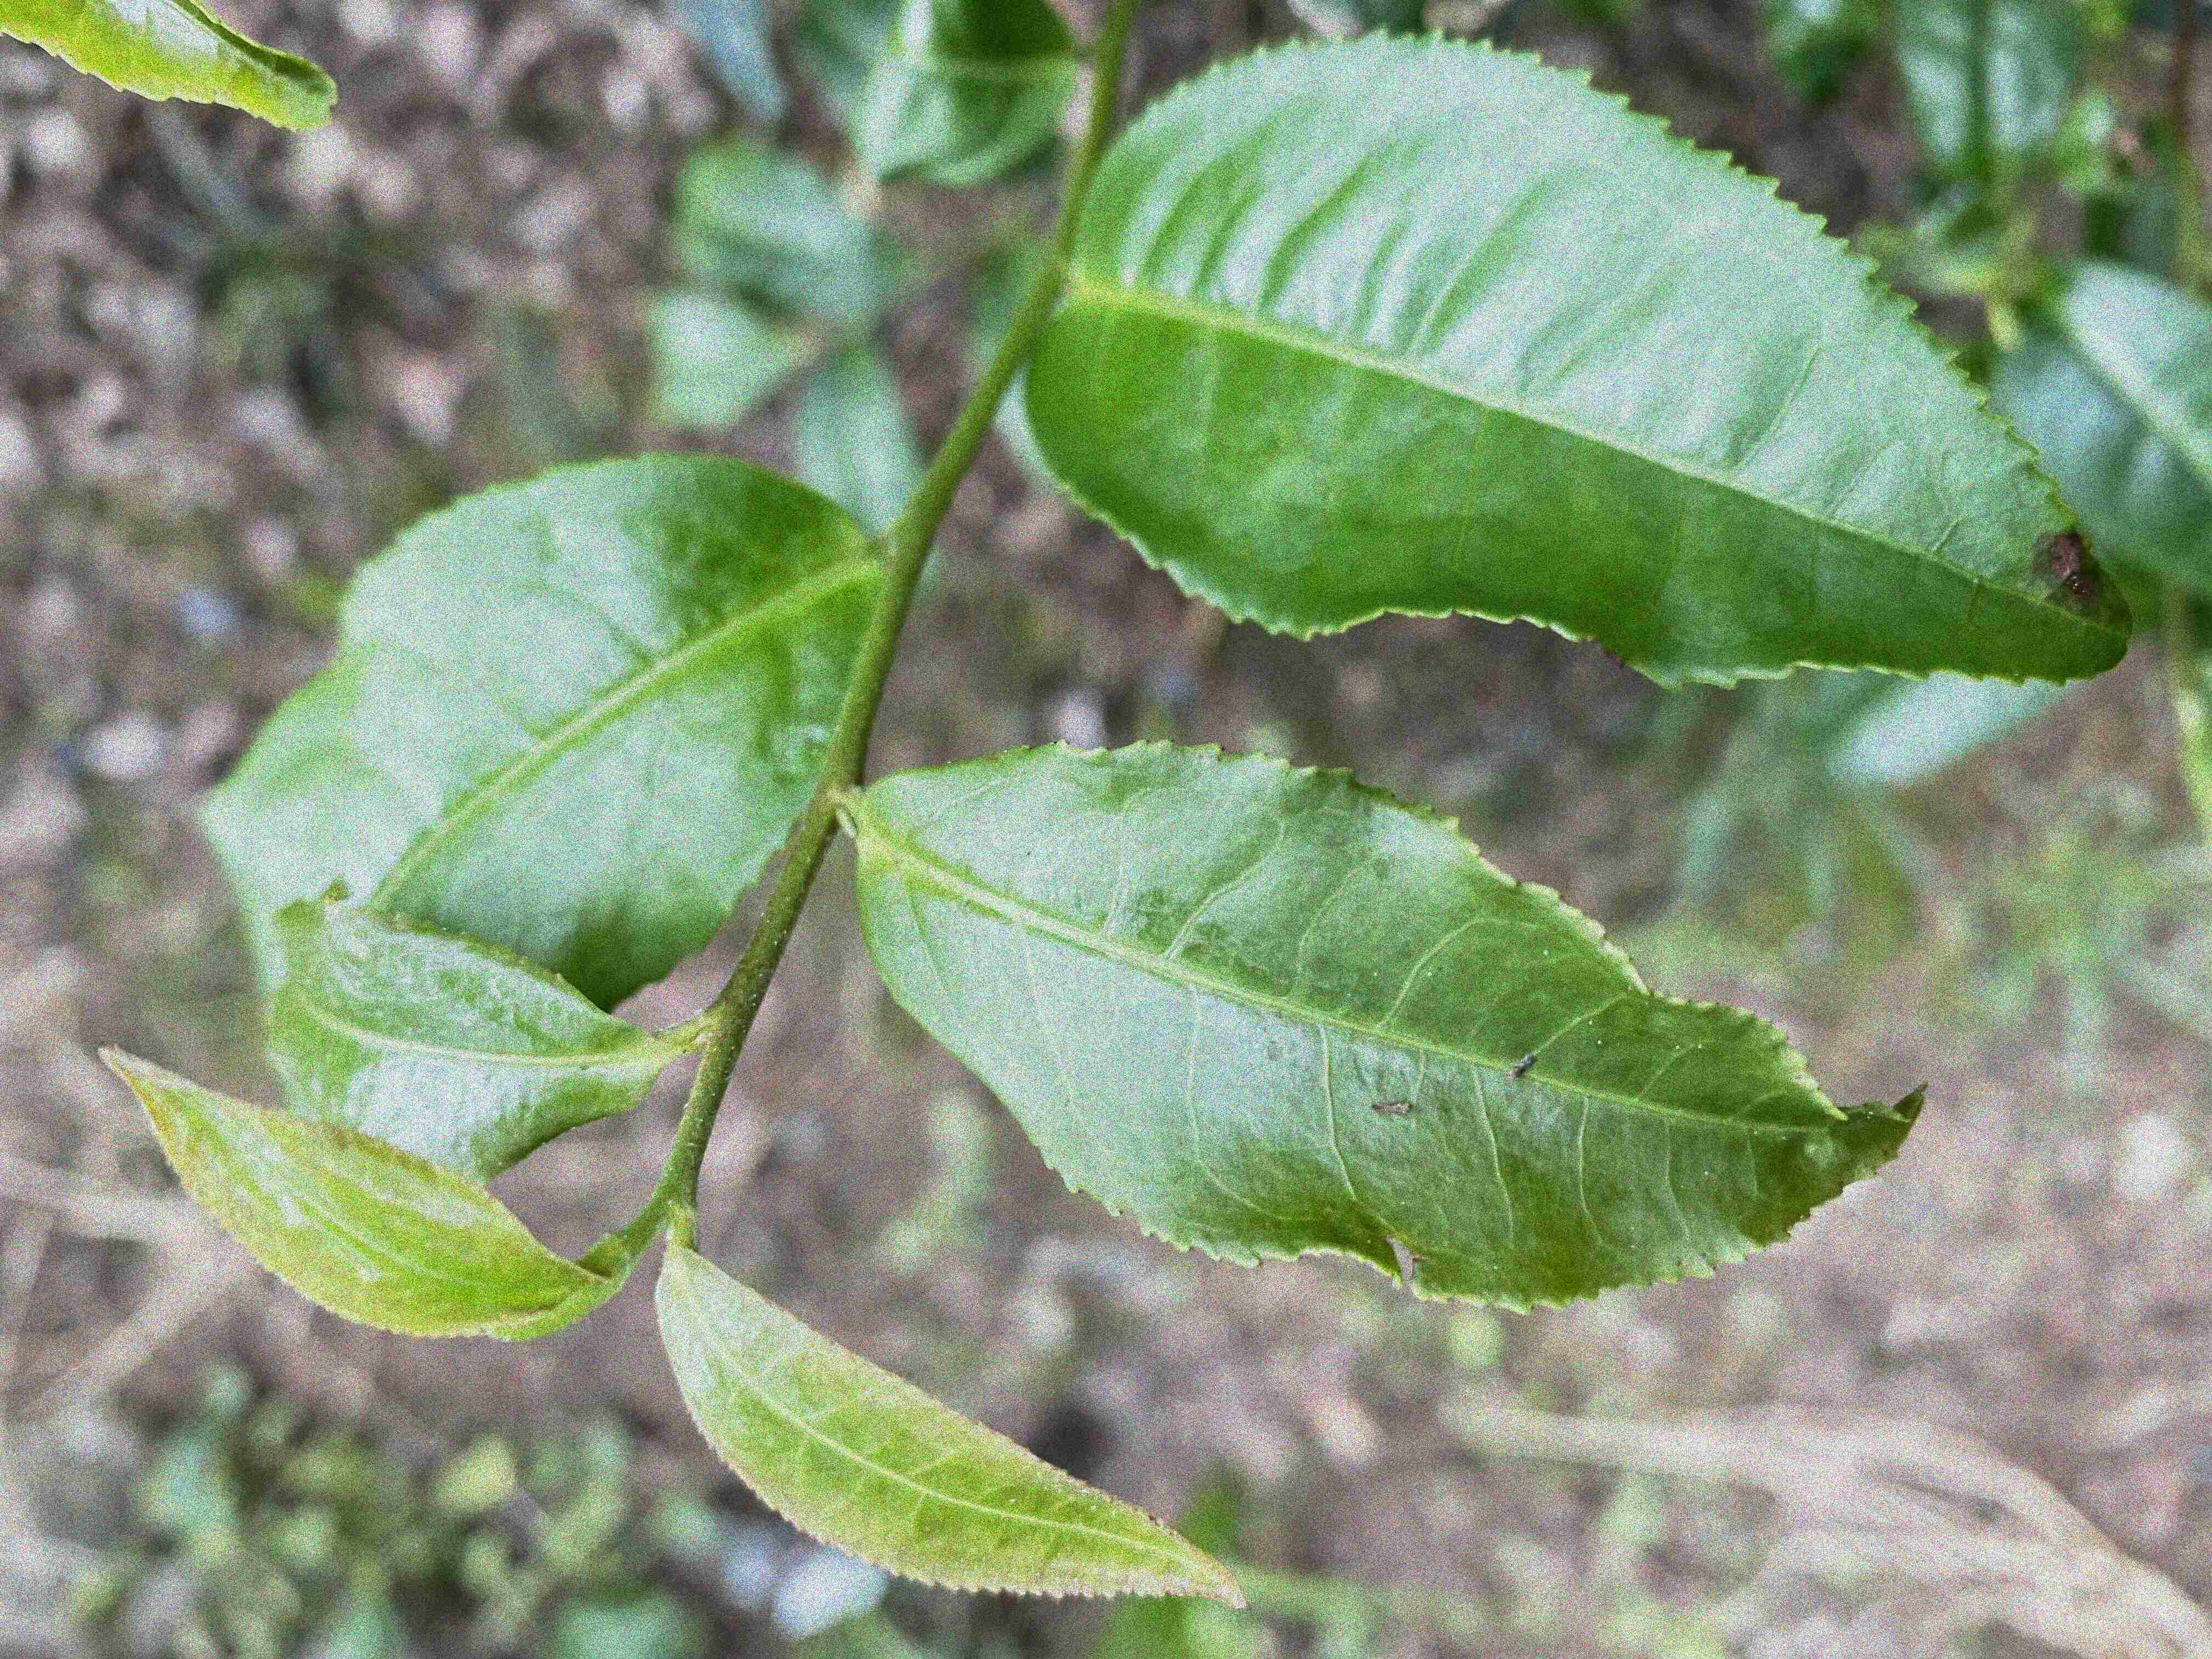chihuo_low: (850, 735, 1932, 1317)
tanju_high: (1019, 28, 2135, 697)
tanju_low: (644, 1237, 1263, 1619), (87, 1039, 585, 1338)
